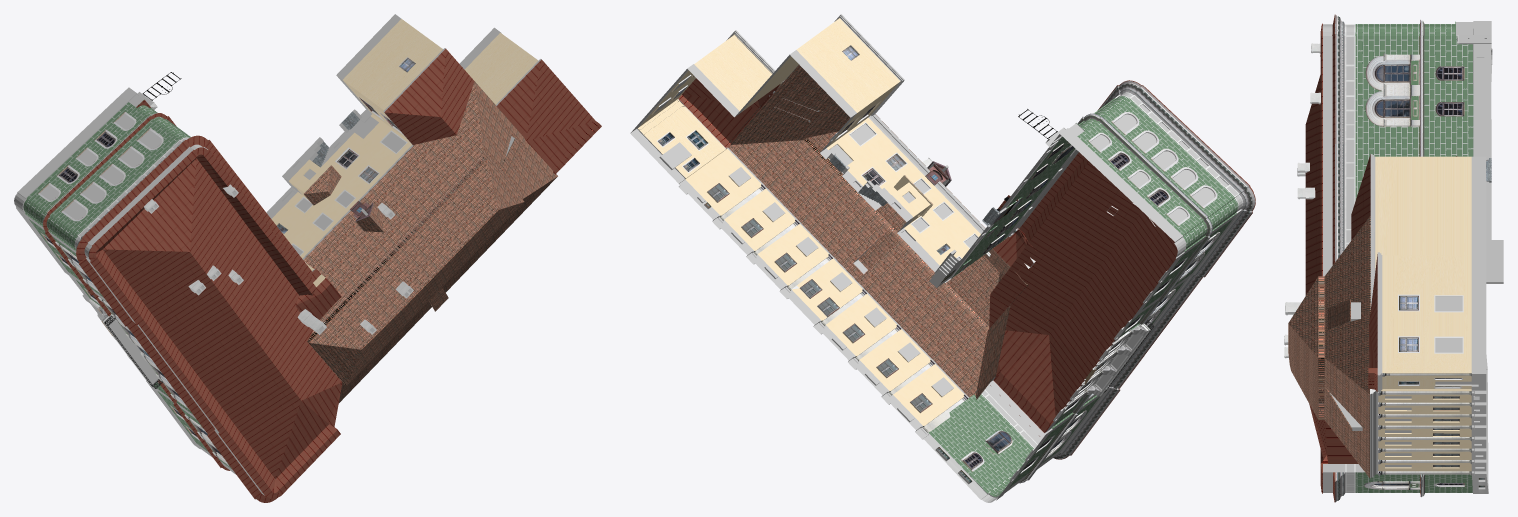
File: Kohtu-1.obj
3 renders of one model, left to right at view 1: azimuth 30°, elevation 25°; view 2: azimuth 150°, elevation 25°; view 3: azimuth 270°, elevation 25°, orthographic. The views are drawn at different scales.
Visible parts, largest first — view 1: Kohtu_1; view 2: Kohtu_1; view 3: Kohtu_1.
Part boxes in pixels (bbox=[...]): Kohtu_1: bbox=[14, 14, 601, 502]; Kohtu_1: bbox=[630, 14, 1255, 502]; Kohtu_1: bbox=[1284, 14, 1503, 502].
Bounding box in the file's own units: 65.05 × 45.4 × 19.88.
